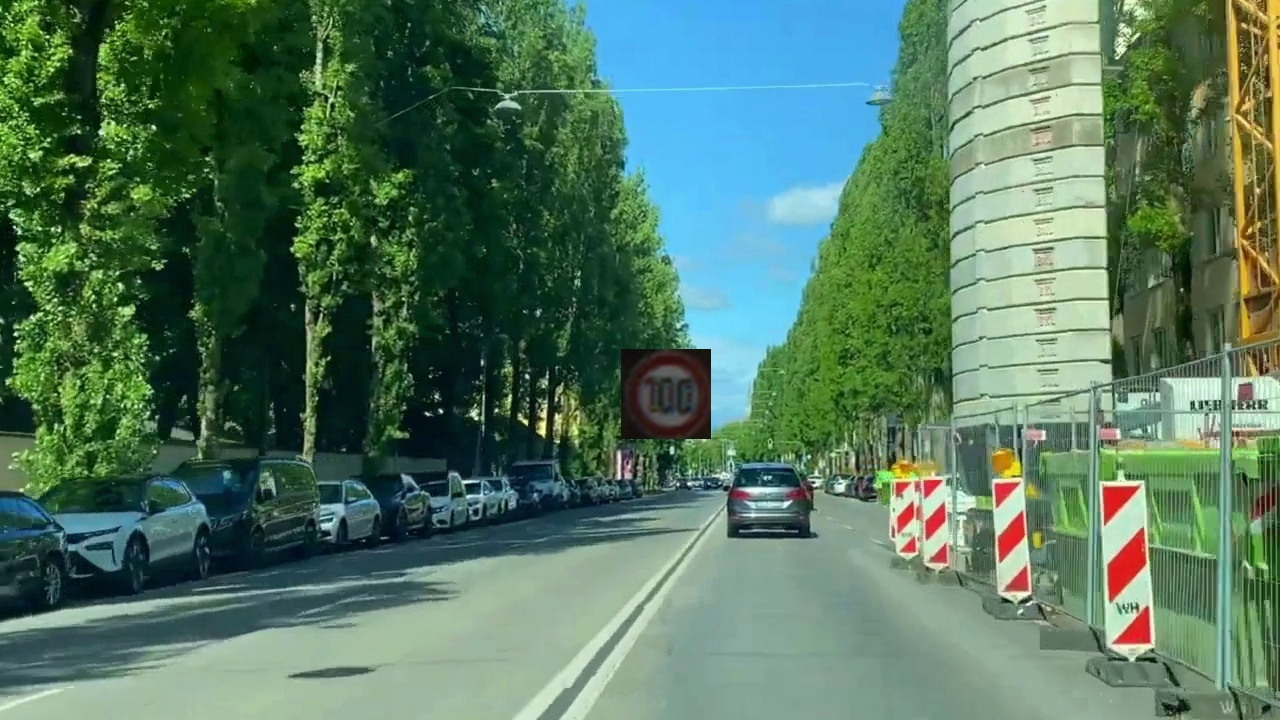Speed 100: (621, 349, 711, 439)
